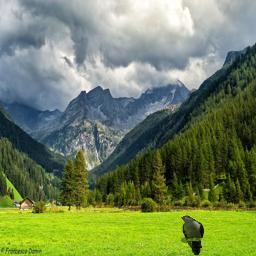Cuckoo: (181, 215, 204, 255)
